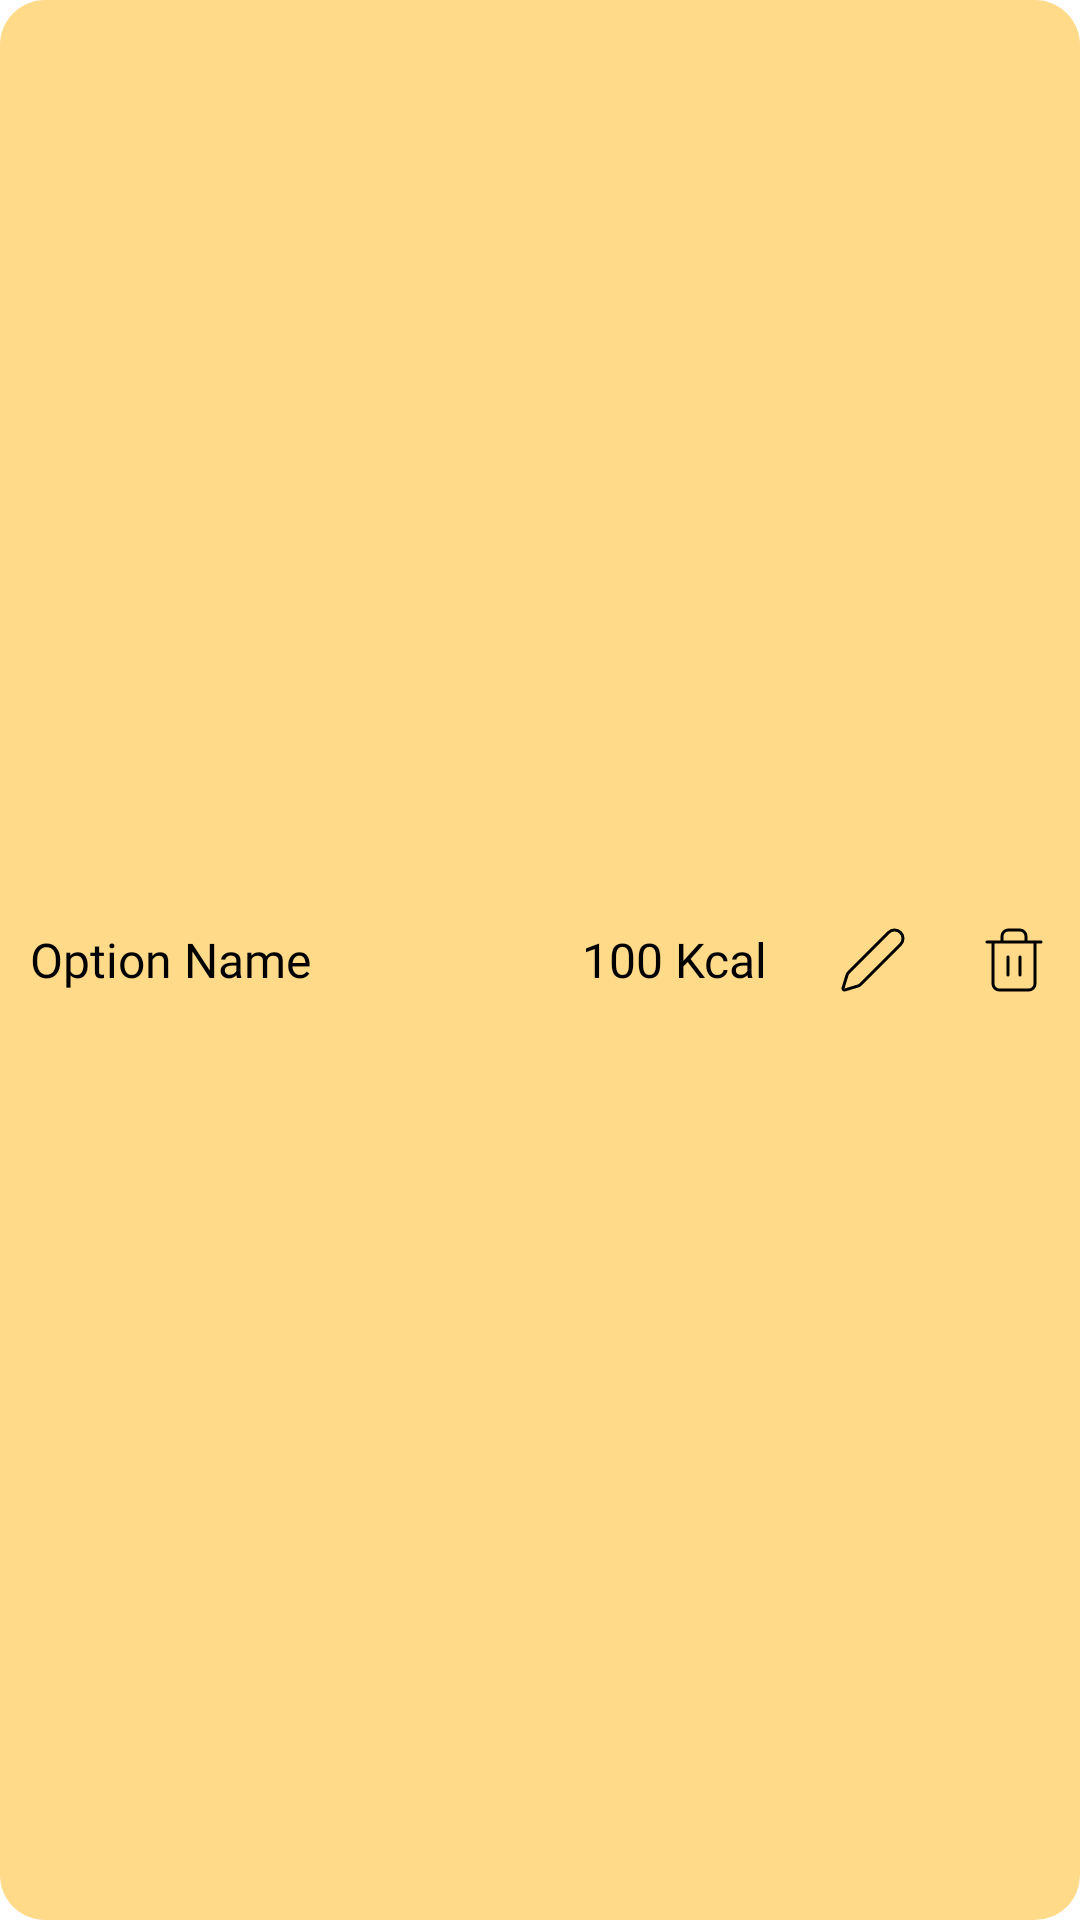

Icon bounding boxes for this 1080px×1920px phone screenshot, format [left=x1, top=y1, right=x2, bottom=y2]:
delete: [left=985, top=928, right=1043, bottom=992]
edit: [left=841, top=928, right=905, bottom=992]
